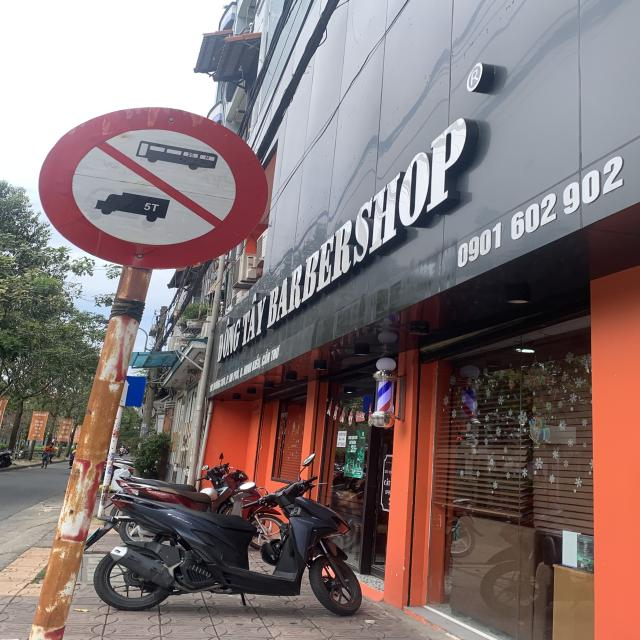Cam_XeTai_XeKhach: (38, 104, 270, 269)
